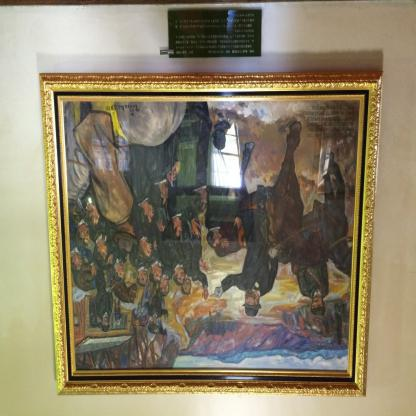picture frame: (29, 71, 387, 386)
